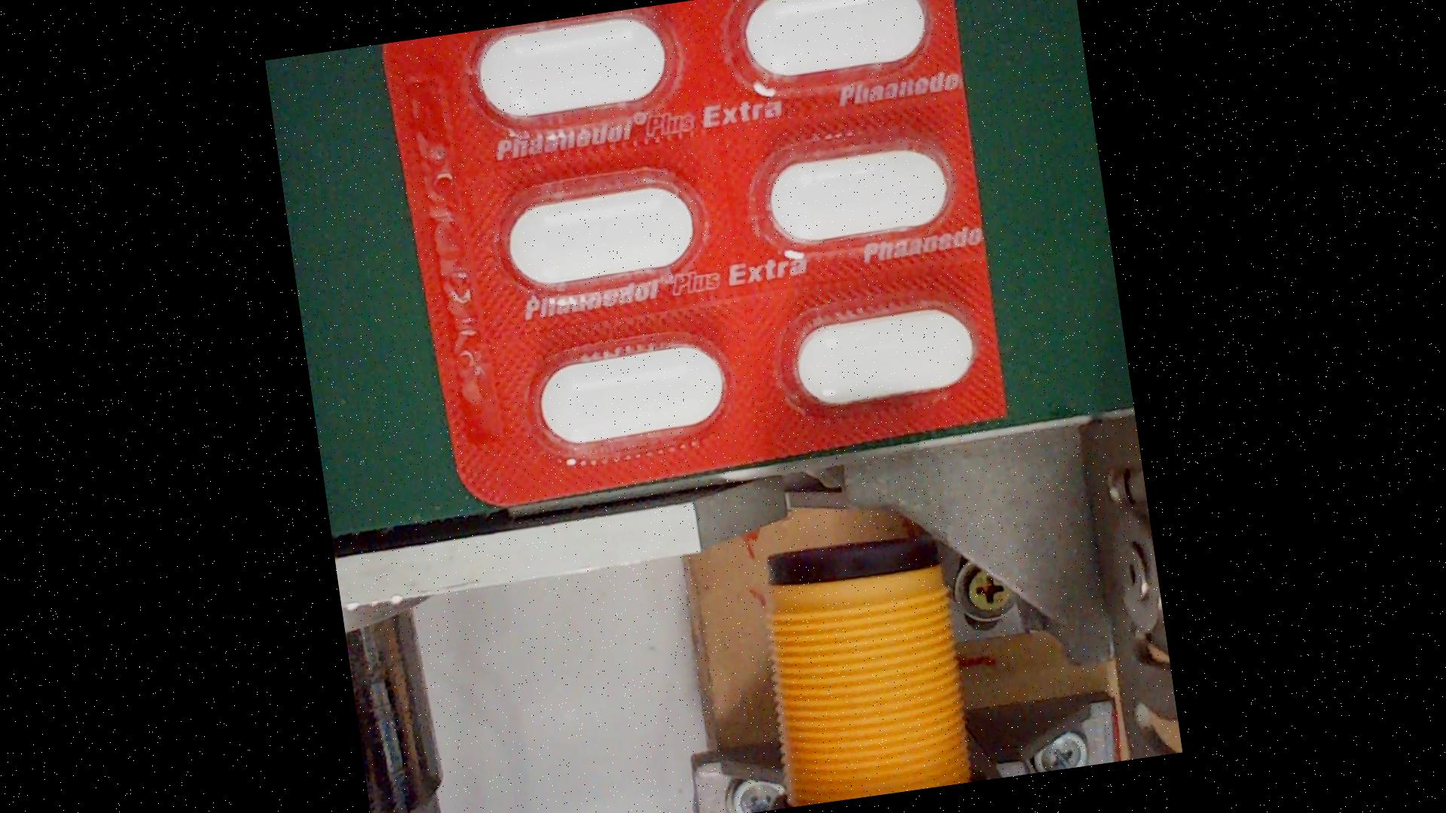Full: (772, 287, 999, 424), (746, 128, 973, 264), (519, 325, 745, 461), (490, 165, 716, 301), (461, 3, 687, 133), (718, 0, 944, 97)
